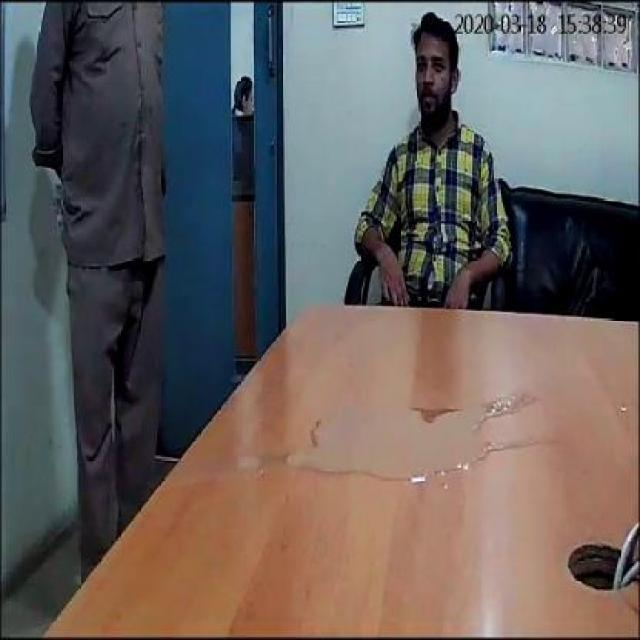spill: (292, 384, 522, 482)
